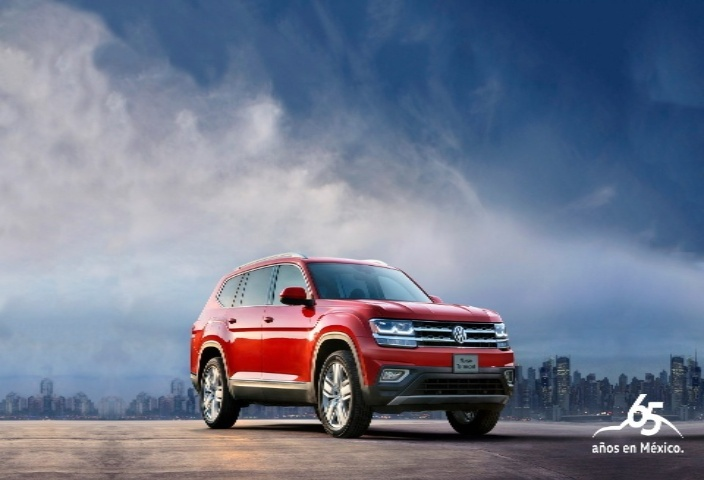camper: (169, 242, 537, 450)
